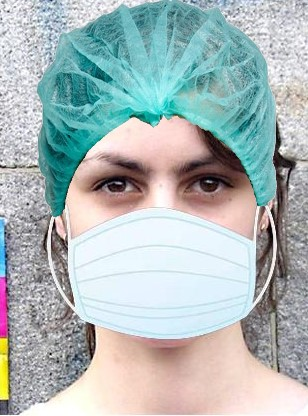with_mask_and_cap: (51, 3, 274, 338)
